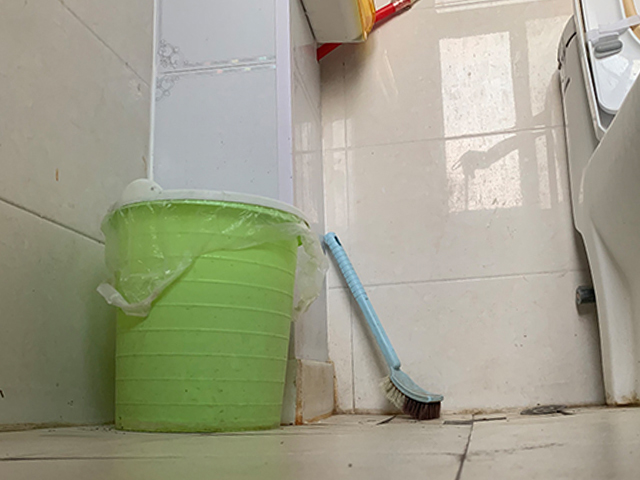closestool: (556, 1, 640, 406)
trashcan: (104, 178, 311, 434)
